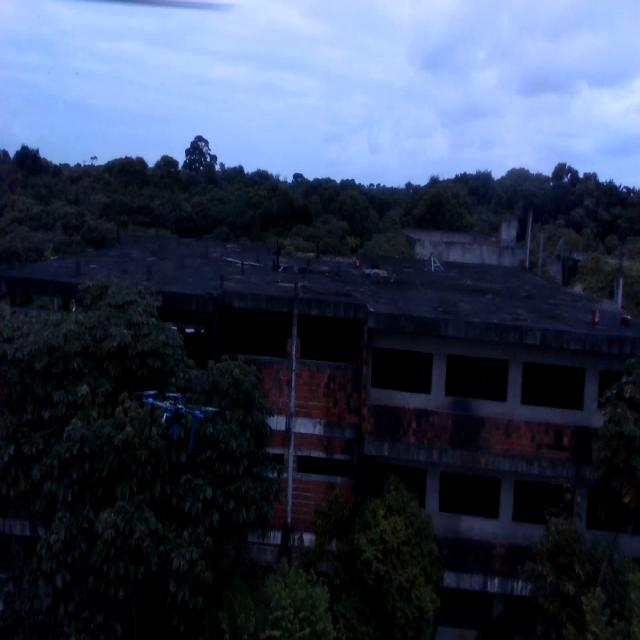-uav-: (134, 374, 224, 470)
